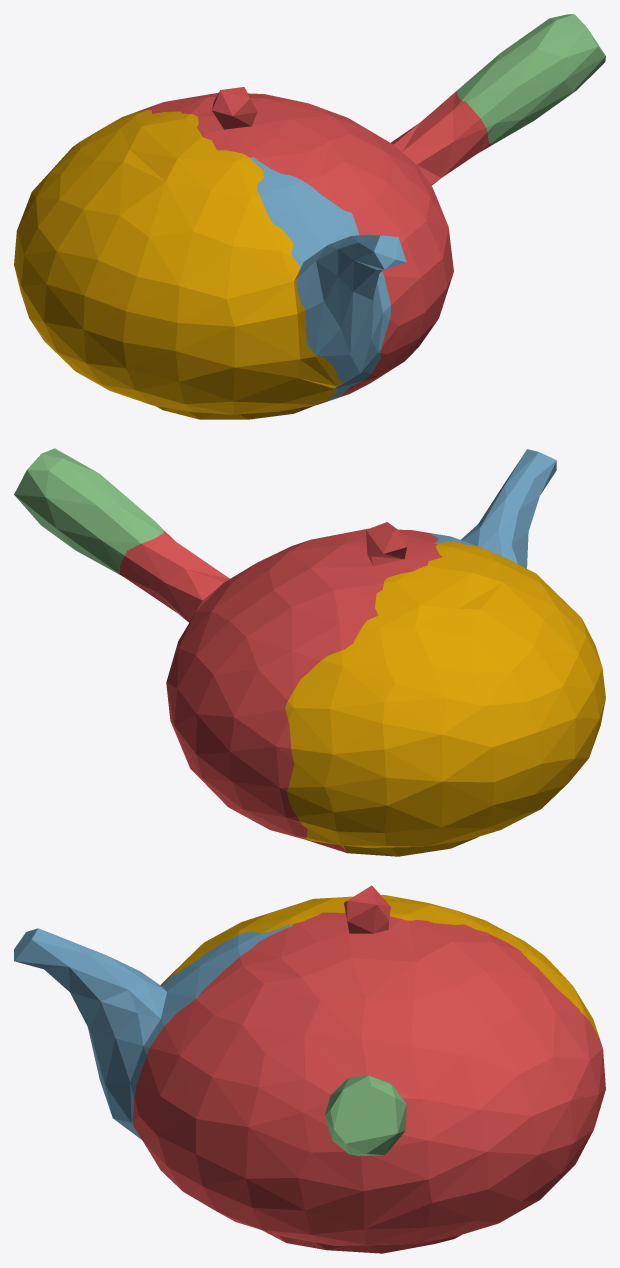
Rendered from mode_3_4pcs.glb.
3 renders of one model, top to bottom at view 1: azimuth 30°, elevation 25°; view 2: azimuth 150°, elevation 25°; view 3: azimuth 270°, elevation 25°, orthographic. The views are drawn at different scales.
Visible parts, largest first — view 1: piece_0.obj, piece_1.obj, piece_2.obj, piece_3.obj; view 2: piece_0.obj, piece_1.obj, piece_3.obj, piece_2.obj; view 3: piece_1.obj, piece_2.obj, piece_0.obj, piece_3.obj.
Part boxes in pixels (x1=…): piece_0.obj: x1=14, y1=109, x2=343, y2=419; piece_1.obj: x1=137, y1=87, x2=490, y2=412; piece_2.obj: x1=250, y1=157, x2=406, y2=403; piece_3.obj: x1=456, y1=14, x2=605, y2=145; piece_0.obj: x1=285, y1=541, x2=605, y2=856; piece_1.obj: x1=120, y1=522, x2=442, y2=852; piece_3.obj: x1=14, y1=448, x2=163, y2=576; piece_2.obj: x1=431, y1=449, x2=556, y2=568; piece_1.obj: x1=133, y1=885, x2=605, y2=1253; piece_2.obj: x1=14, y1=924, x2=292, y2=1139; piece_0.obj: x1=160, y1=894, x2=600, y2=1040; piece_3.obj: x1=324, y1=1075, x2=406, y2=1156.
Bounding box in the file's own units: 1 × 0.4926 × 0.8498.
